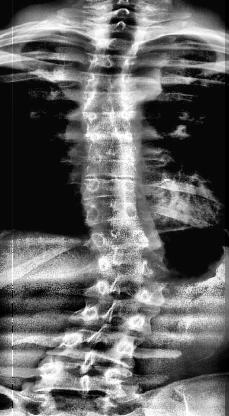Vertebrae: (35, 351, 131, 399), (47, 328, 147, 370), (69, 297, 165, 335), (86, 274, 168, 308), (91, 221, 165, 258), (79, 193, 155, 227), (96, 249, 172, 281), (78, 172, 146, 202), (79, 152, 145, 182), (78, 84, 145, 113), (80, 130, 144, 160), (82, 108, 144, 138), (79, 69, 143, 93), (84, 50, 142, 74)
